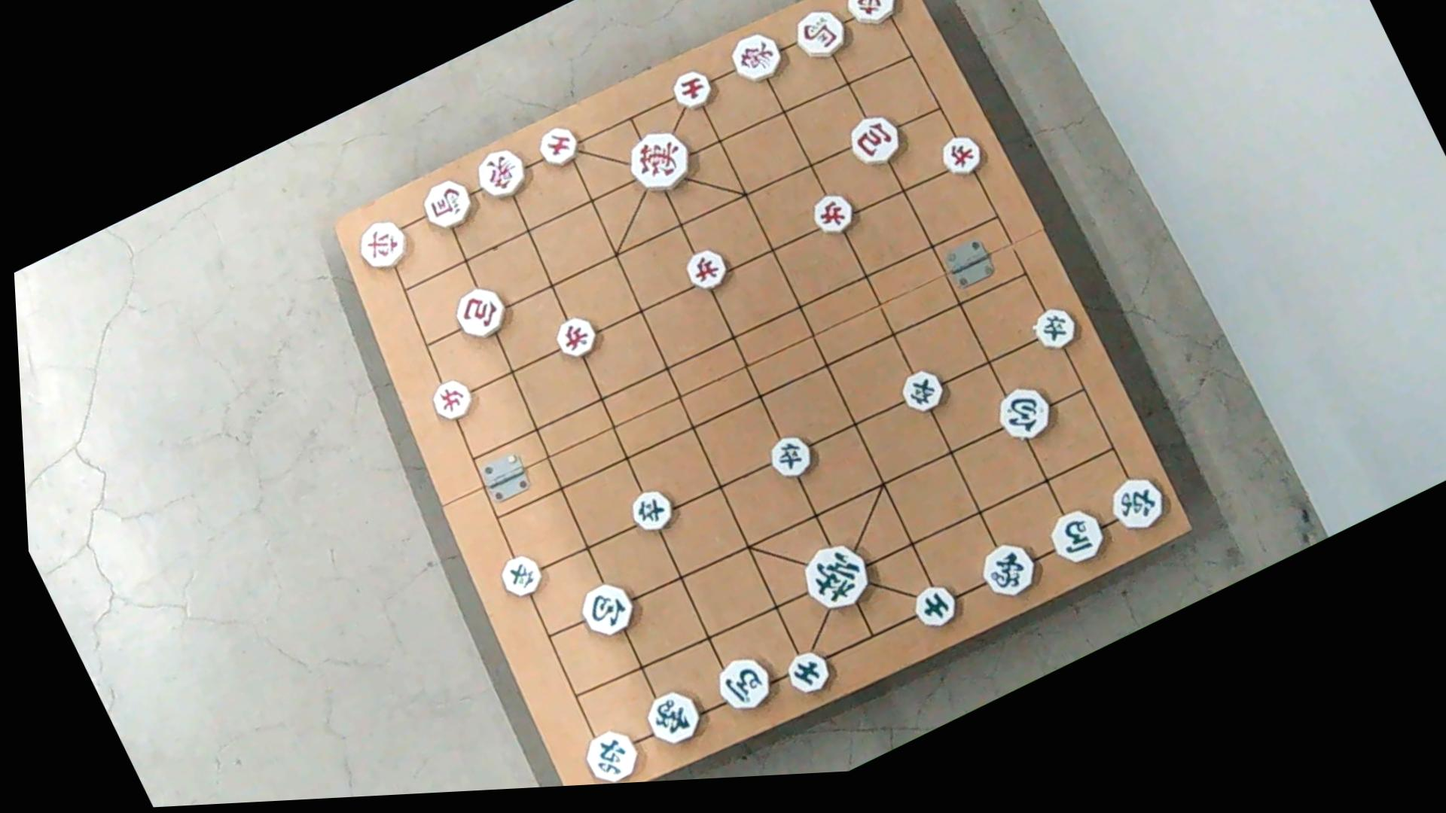cha_green: (1101, 467, 1173, 541), (576, 723, 645, 785)
cha_red: (352, 213, 418, 275), (837, 0, 905, 33)
jol_green: (894, 365, 953, 419), (763, 431, 821, 485), (1027, 303, 1084, 355), (623, 487, 679, 539), (494, 552, 548, 604)
jol_red: (807, 189, 862, 241), (681, 246, 736, 297), (547, 315, 602, 366), (936, 132, 990, 181), (429, 371, 482, 419)
ma_green: (707, 651, 778, 718), (1045, 504, 1116, 571)
ma_red: (789, 2, 857, 66), (413, 175, 480, 236)
po_green: (572, 577, 641, 642), (989, 381, 1057, 444)
po_red: (839, 107, 906, 171), (447, 280, 514, 343)
sa_green: (905, 577, 965, 633), (778, 645, 834, 699)
sa_red: (667, 65, 720, 114), (533, 123, 584, 171)
sang_green: (636, 679, 711, 754), (974, 533, 1047, 606)
sang_red: (724, 26, 791, 90), (471, 142, 537, 206)
wang_green: (795, 537, 880, 618)
wang_red: (620, 125, 700, 199)
